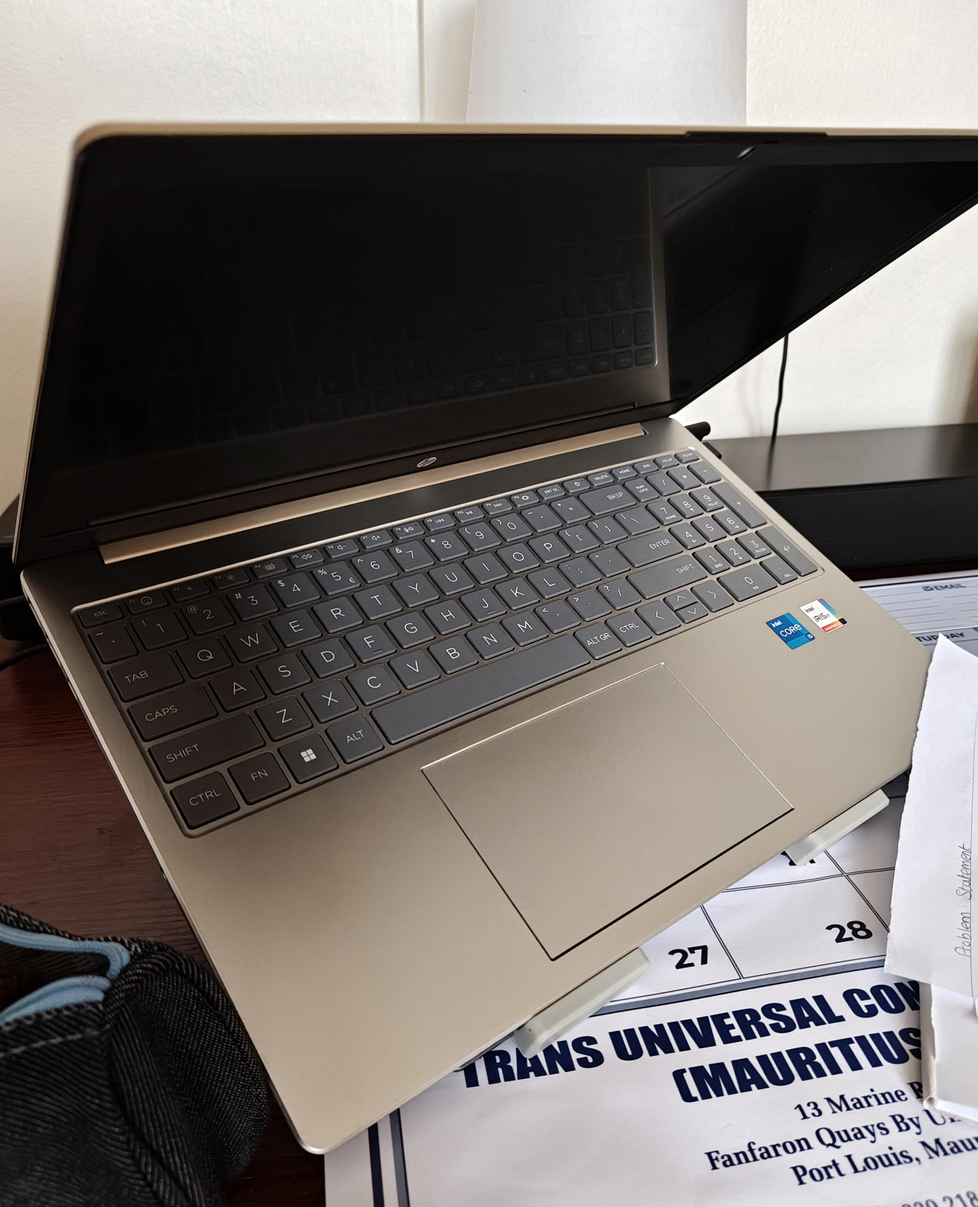laptop: (12, 122, 977, 1156)
